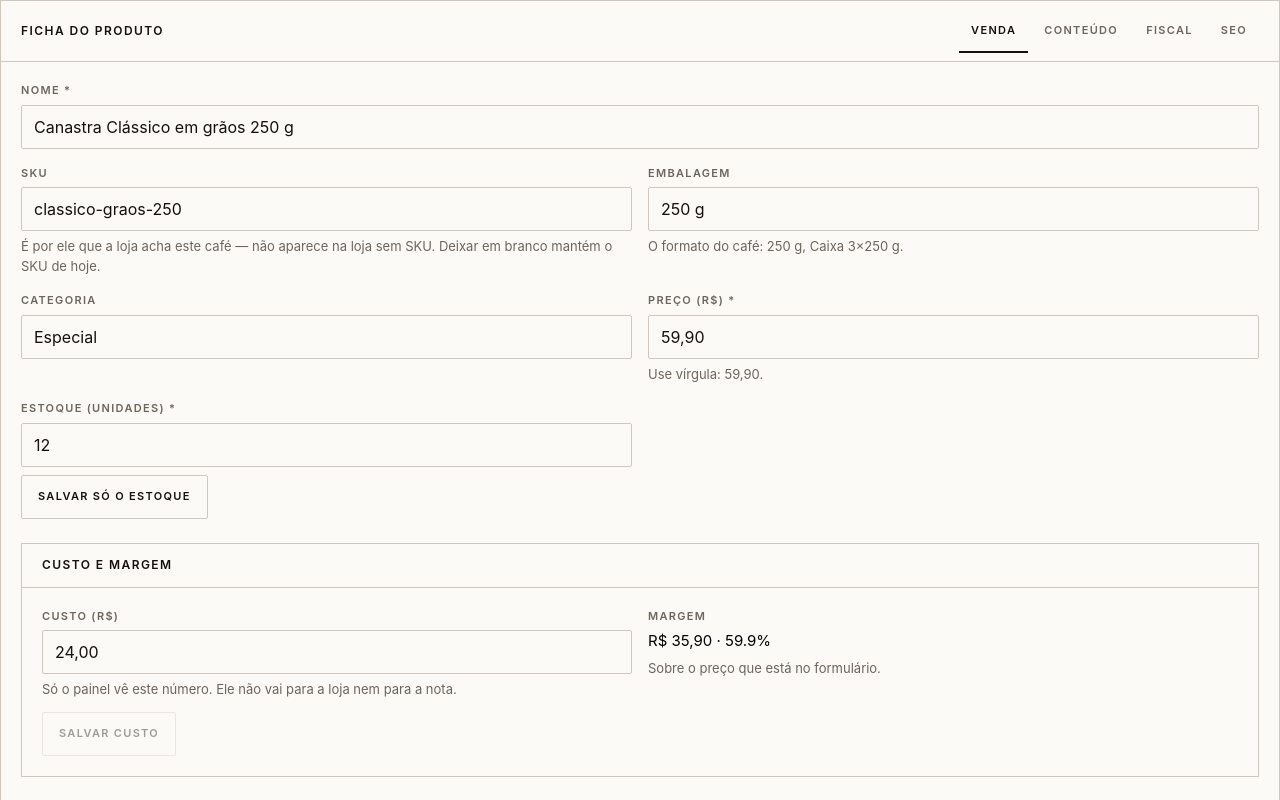
Test: as abas que dizem o que não conseguem fazer › a de SEO aponta para onde o texto realmente mora
Click the tab "SEO": x=1234, y=31 top-left (1209, 9), bottom-right (1259, 53)
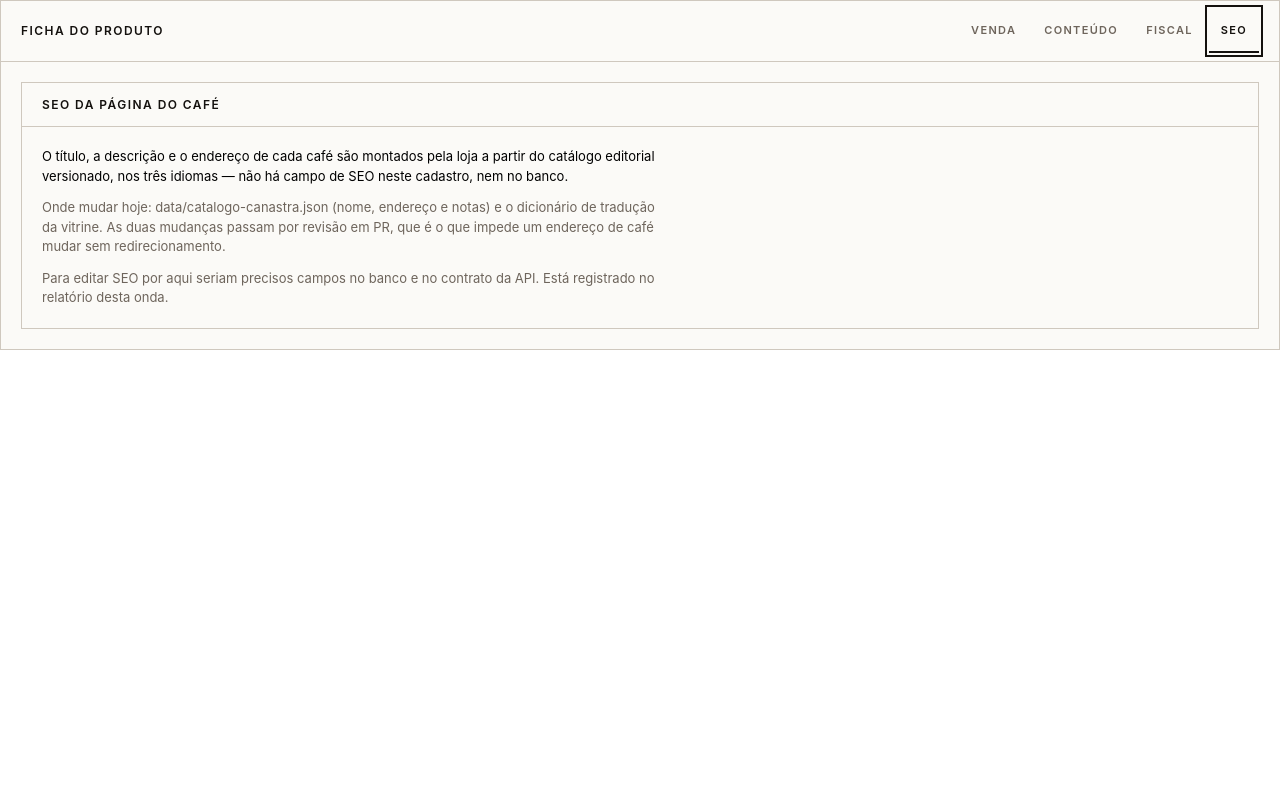
Expected: the panel shows "data/catalogo-canastra.json", top-left (155, 199), bottom-right (328, 215)
